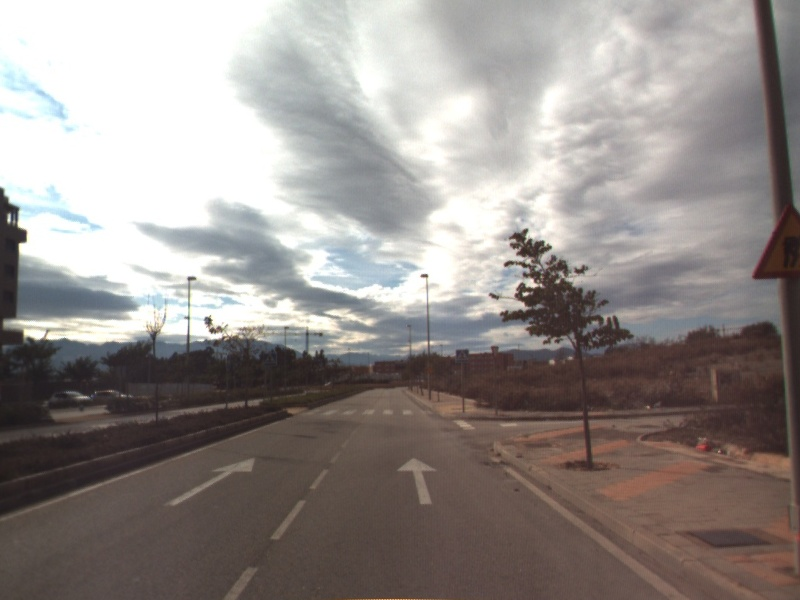STRAIGHT: (161, 455, 257, 508), (395, 455, 439, 506)
